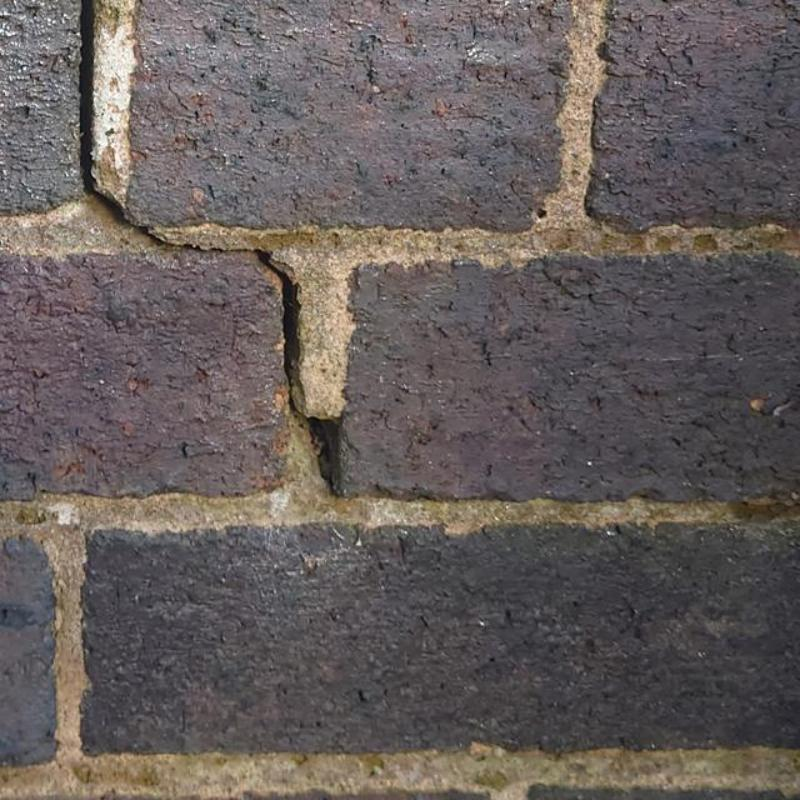crack: (80, 0, 162, 246), (257, 252, 337, 492), (164, 241, 256, 254)
